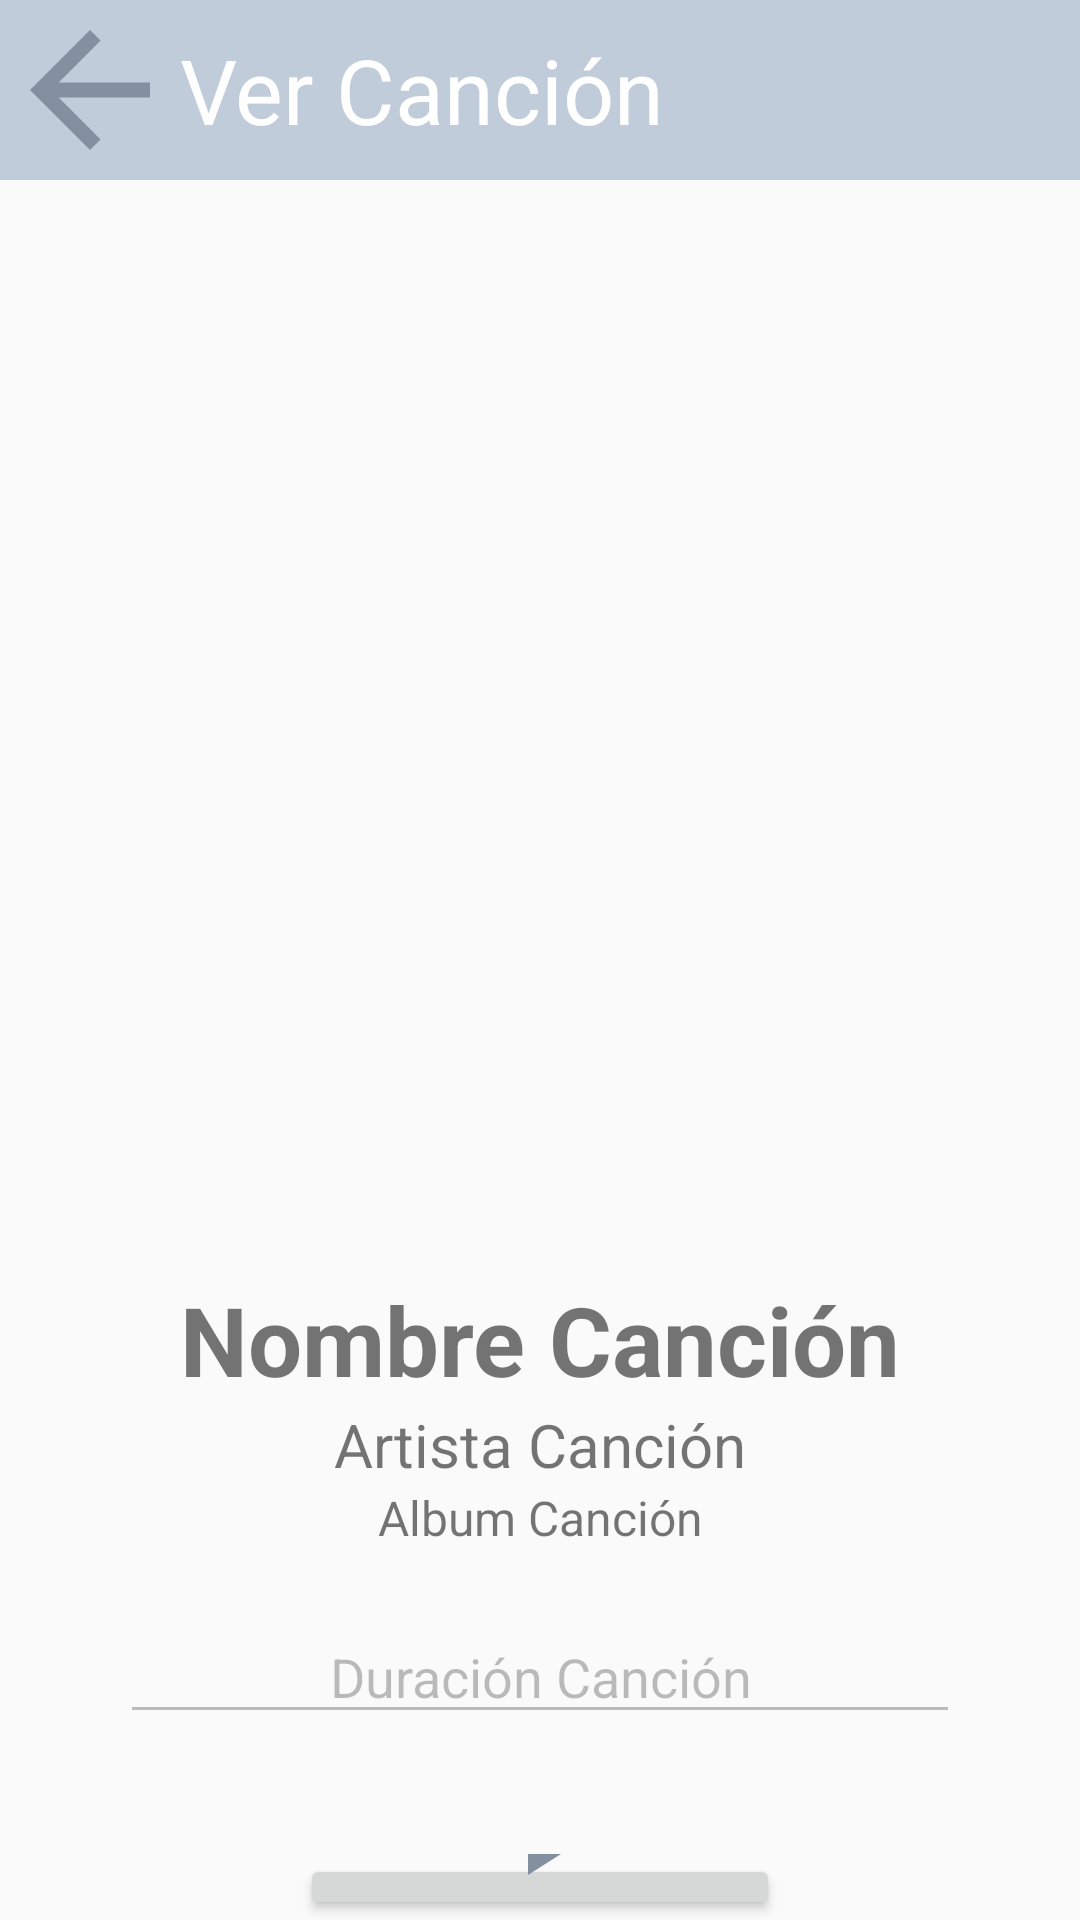

Point at icon controls on the screen. Image size 1080px×1920px, points as point (x, y).
arrow back: point (90, 90)
